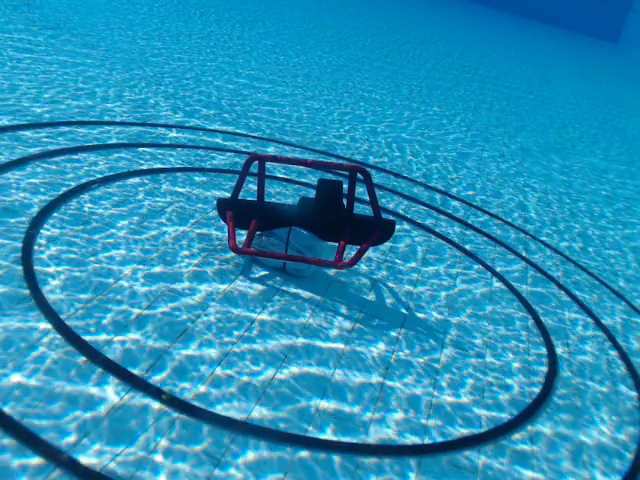submarine: (215, 151, 398, 276)
